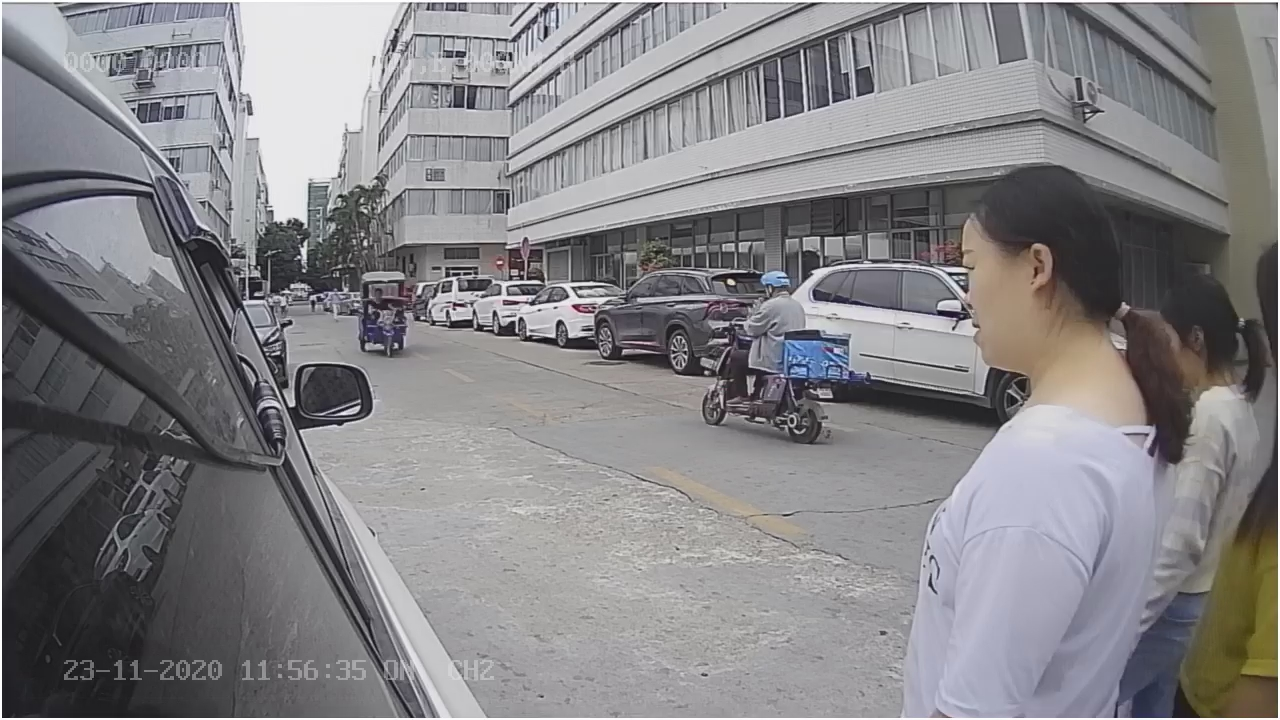person: (892, 152, 1147, 713)
